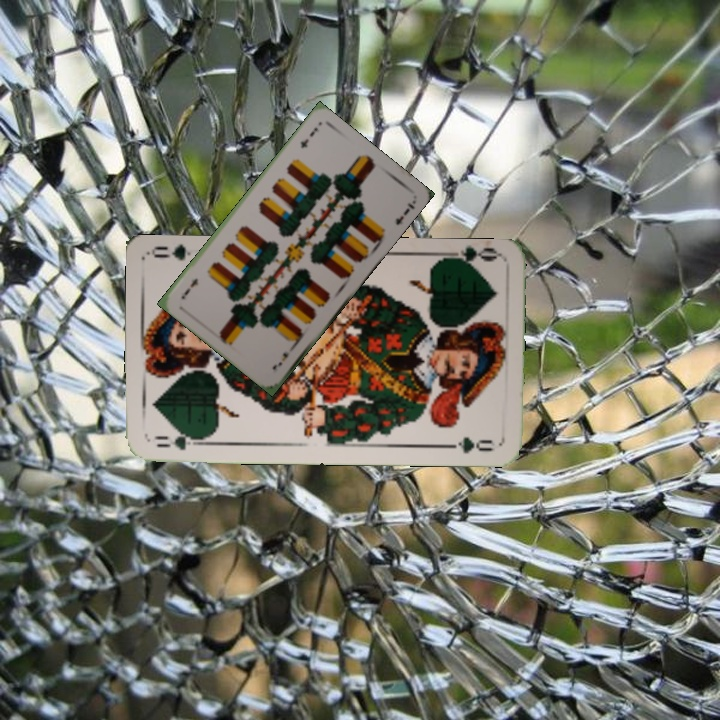E7: (268, 341, 298, 372), (296, 123, 321, 151)
GO: (441, 245, 500, 272), (150, 428, 207, 453)
